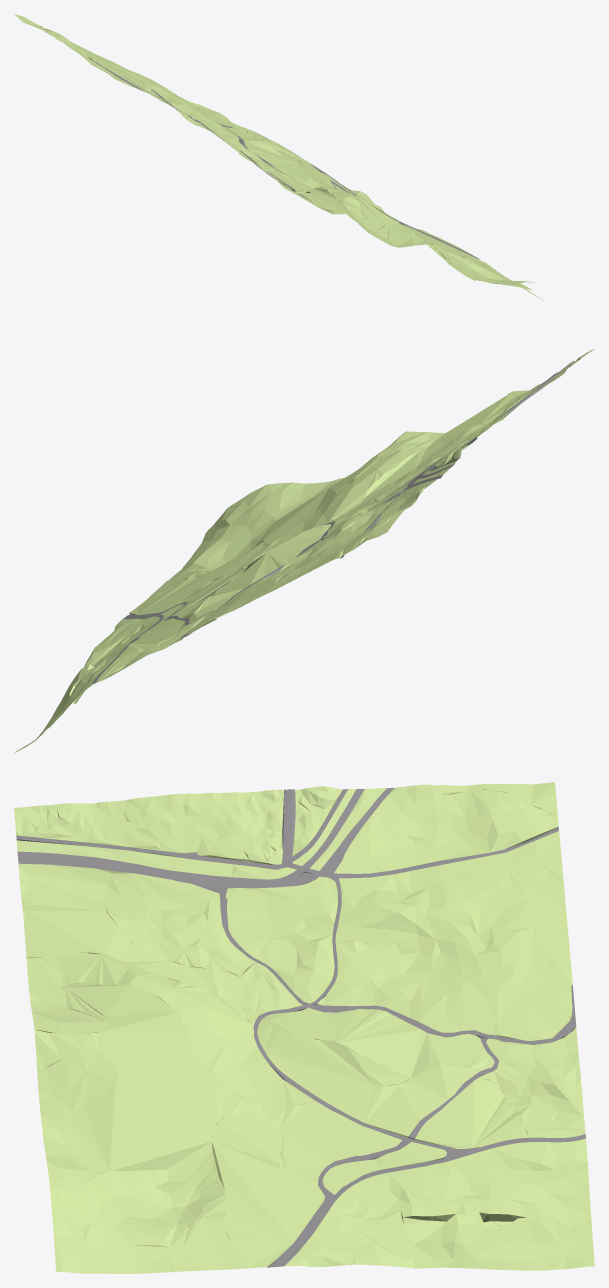
3 renders of one model, top to bottom at view 1: azimuth 30°, elevation 25°; view 2: azimuth 150°, elevation 25°; view 3: azimuth 270°, elevation 25°, orthographic. The views are drawn at different scales.
Bounding box in the file's own units: 229 × 161 × 268.
